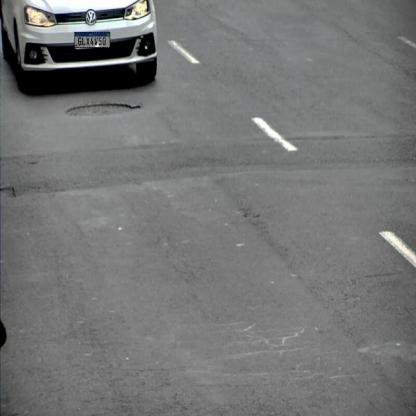PlacaM: (74, 32, 110, 48)
